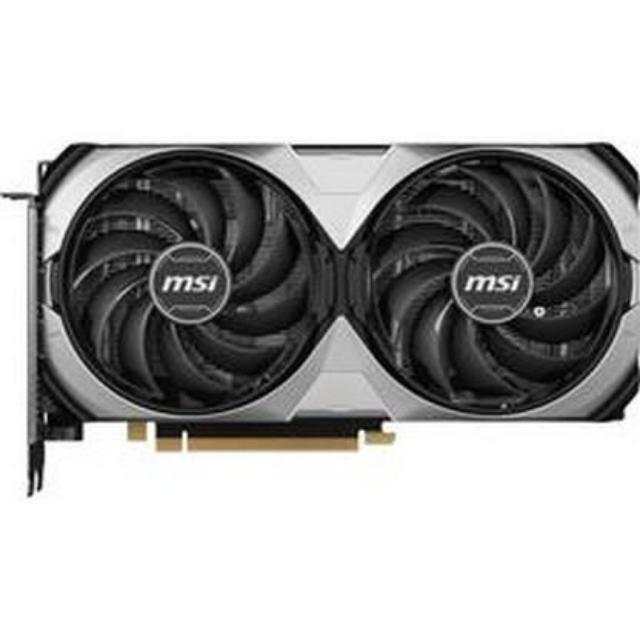GPU: (29, 142, 640, 458)
